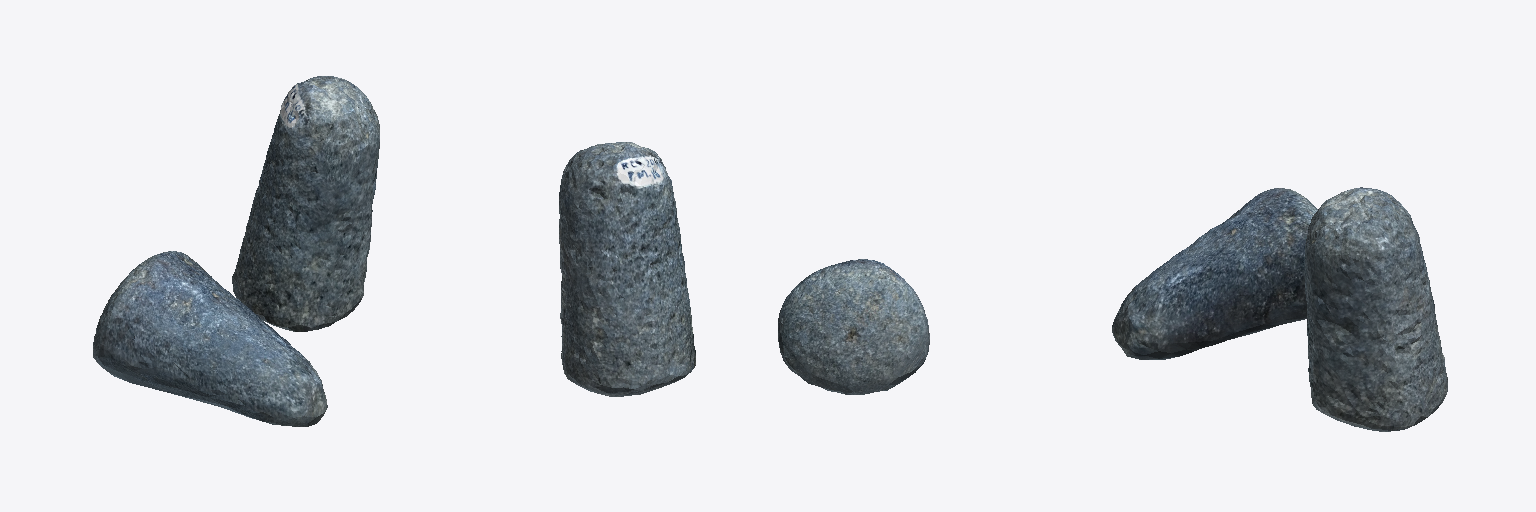
The picture shows the model from 3 angles: view 1: azimuth 30°, elevation 25°; view 2: azimuth 150°, elevation 25°; view 3: azimuth 270°, elevation 25°; orthographic projection.
Parts seen in each view (by area): view 1: mmGroup0; view 2: mmGroup0; view 3: mmGroup0.
Part boxes in pixels (x1,y1,x2,y2): mmGroup0: (93, 76, 379, 426); mmGroup0: (559, 142, 929, 396); mmGroup0: (1112, 187, 1447, 431).
Bounding box in the file's own units: 0.5212 × 0.3627 × 0.4801.
1 materials, 1 textured.